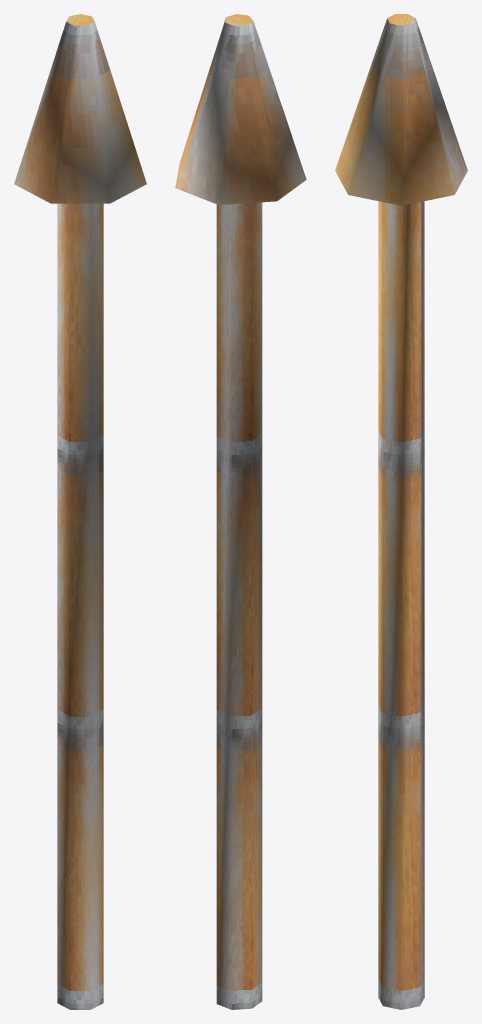
The model's file is Environment - Prop - Torches - Snow - PMTORCH_S.glb.
3 renders of one model, left to right at view 1: azimuth 90°, elevation 25°; view 2: azimuth 150°, elevation 25°; view 3: azimuth 270°, elevation 25°, orthographic.
Visible parts, largest first — view 1: PMTORCH_S; view 2: PMTORCH_S; view 3: PMTORCH_S.
Boxes of the visible parts, x1,y1,x2,y2 form: PMTORCH_S: (14,14,146,1009); PMTORCH_S: (175,14,306,1009); PMTORCH_S: (335,14,467,1009).
Bounding box in the file's own units: 2.26 × 18.83 × 2.31.
1 material, 1 textured.
